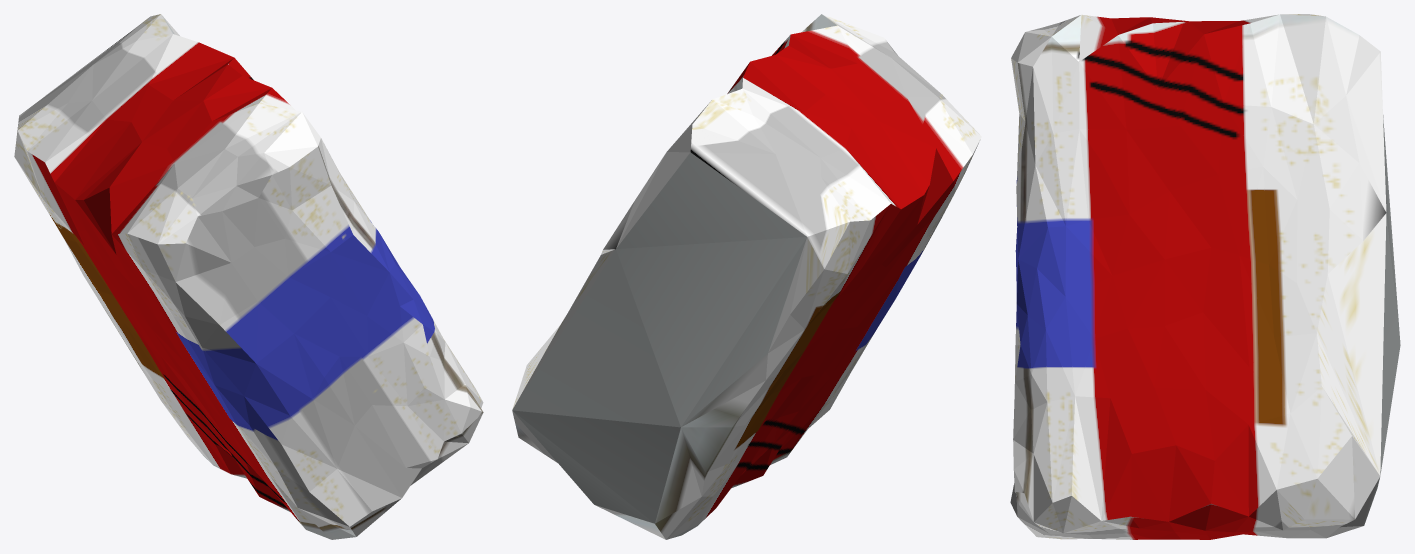
Rendered from soap.dae.
3 views of the same model, side by side, from view 1: azimuth 30°, elevation 25°; view 2: azimuth 150°, elevation 25°; view 3: azimuth 270°, elevation 25° (orthographic). The views are drawn at different scales.
Visible parts, largest first — view 1: node; view 2: node; view 3: node.
Boxes of the visible parts, box(x1,y1,x2,y2) form: node: box(14, 14, 483, 539); node: box(512, 14, 981, 539); node: box(1010, 14, 1400, 539).
Bounding box in the file's own units: 0.1189 × 0.1475 × 0.1052.
